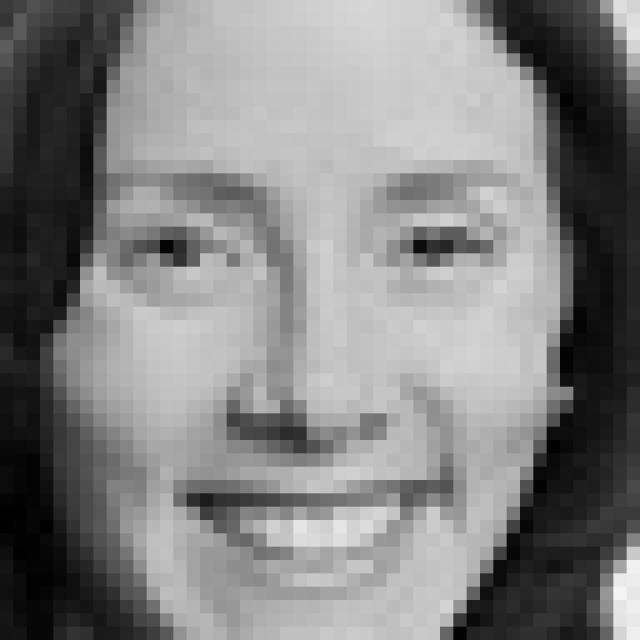happy: (97, 156, 536, 601)
